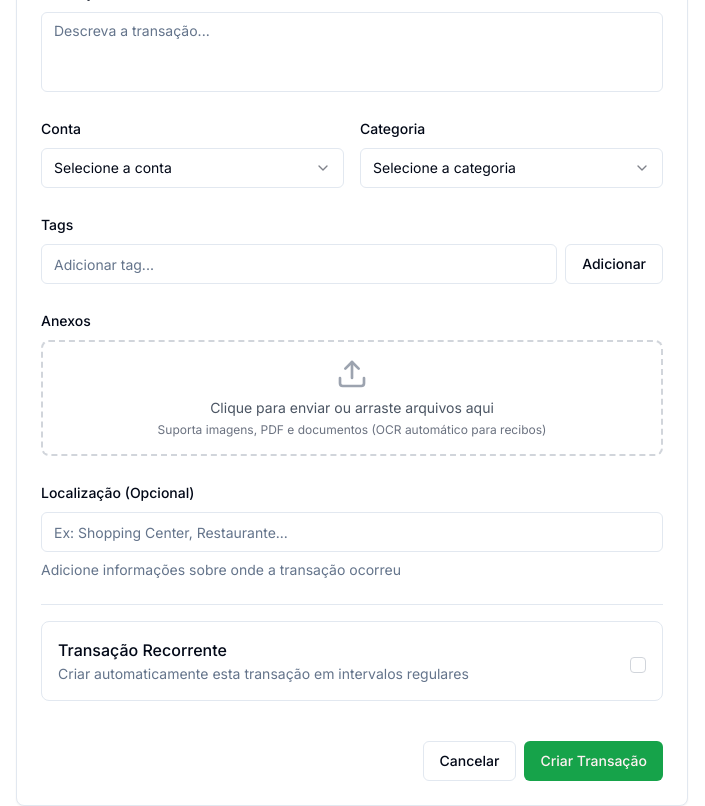
Test: TransactionForm › validates required fields
The width and height of the screenshot is (705, 806).
(page scrolled)
Note: Try to submit without filling required fields
Click the button "Criar Transação" at coordinates (594, 761), box [524,741,663,781]
(page scrolled)
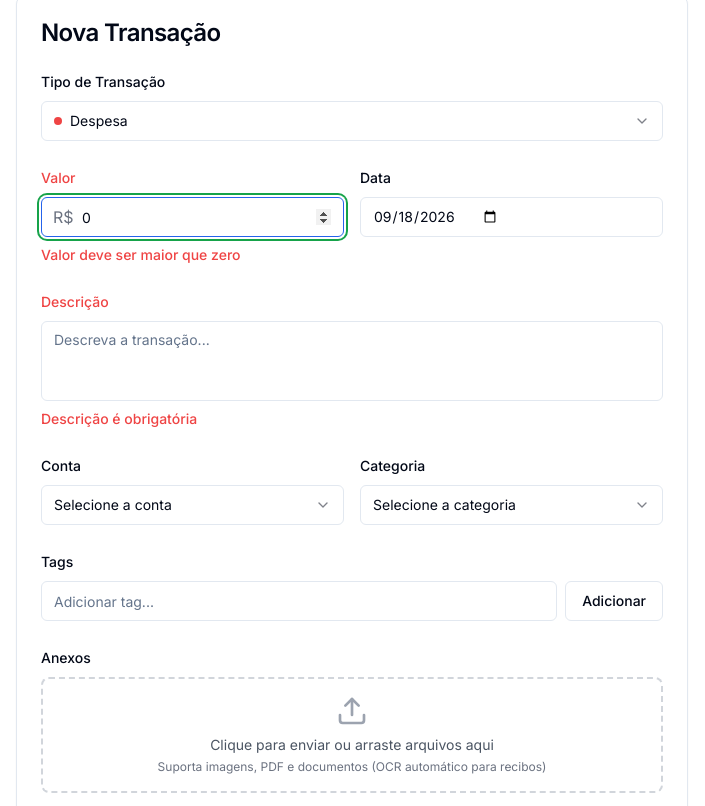
Check: the text "Descrição é obrigatória" is shown, box [41,410,197,427]
